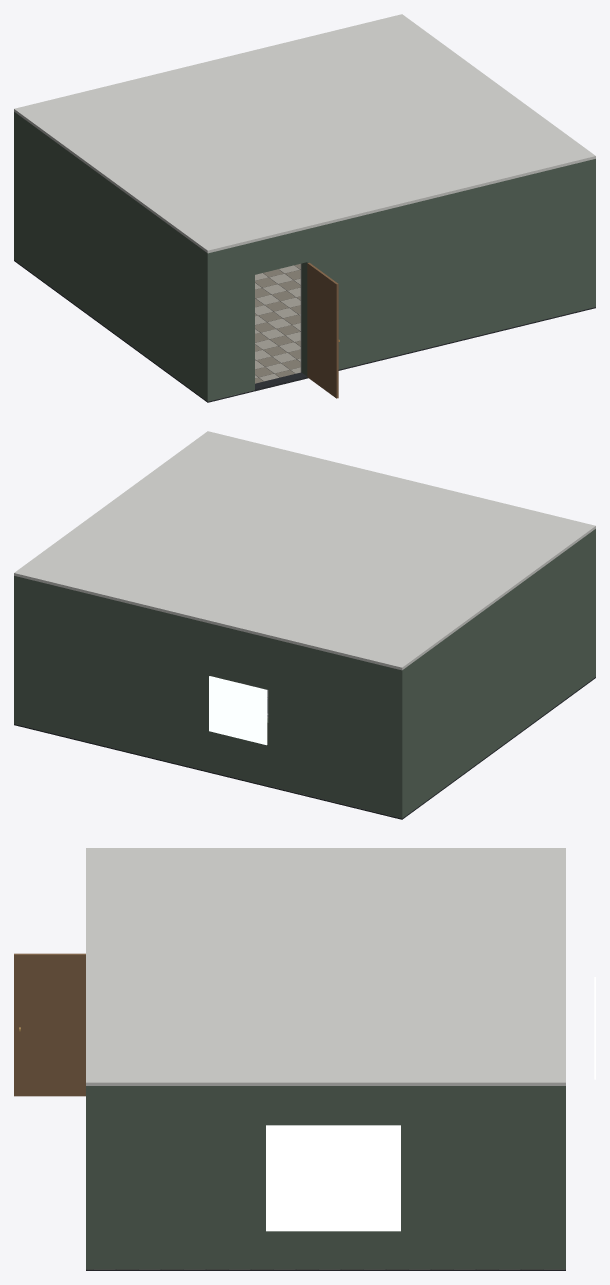
The model's file is kitchen.glb.
The picture shows the model from 3 angles, top to bottom: view 1: azimuth 30°, elevation 25°; view 2: azimuth 150°, elevation 25°; view 3: azimuth 270°, elevation 25°; orthographic projection. The views are drawn at different scales.
Visible parts, largest first — view 1: kitchen_room; view 2: kitchen_room; view 3: kitchen_room.
Boxes of the visible parts, x1,y1,x2,y2 form: kitchen_room: (14,14,595,402); kitchen_room: (14,431,595,819); kitchen_room: (14,848,595,1270).
Size of the model in its own units: 7.8 by 2.77 by 7.76.
